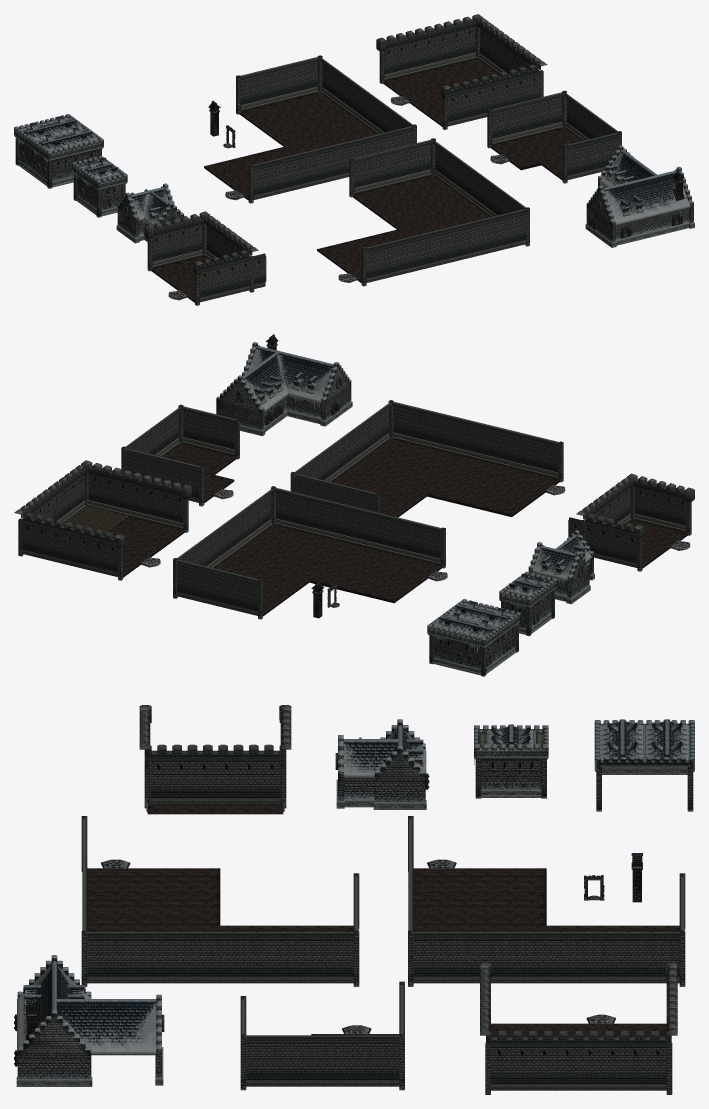
File: EnvMdrMD_Snow_B_Jail_Building_Entrance_A.FBX
3 views of the same model, one above another, from view 1: azimuth 30°, elevation 25°; view 2: azimuth 150°, elevation 25°; view 3: azimuth 270°, elevation 25° (orthographic). The views are drawn at different scales.
Parts seen in each view (by area): view 1: EnvMdrMD_Snow_B_Jail_Building_Indoor_Library_A, EnvMdrMD_Snow_B_Jail_Building_Indoor_Library_A_Guild, EnvMdrMD_Snow_B_Jail_Building_Indoor_Dining_A, EnvMdrMD_Snow_B_Jail_Building_Indoor_StockRoom_A, EnvMdrMD_Snow_B_Jail_Building_Indoor_Station_A, EnvMdrMD_Snow_B_Jail_Building_Outdoor_Library_A, EnvMdrMD_Snow_B_Jail_Building_Outdoor_Dining_A, EnvMdrMD_Snow_B_Jail_Building_Outdoor_Station_A, EnvMdrMD_Snow_B_Jail_Building_Outdoor_StockRoom_A; view 2: EnvMdrMD_Snow_B_Jail_Building_Indoor_Library_A_Guild, EnvMdrMD_Snow_B_Jail_Building_Indoor_Library_A, EnvMdrMD_Snow_B_Jail_Building_Indoor_Dining_A, EnvMdrMD_Snow_B_Jail_Building_Outdoor_Library_A, EnvMdrMD_Snow_B_Jail_Building_Indoor_Station_A, EnvMdrMD_Snow_B_Jail_Building_Indoor_StockRoom_A, EnvMdrMD_Snow_B_Jail_Building_Outdoor_Dining_A, EnvMdrMD_Snow_B_Jail_Building_Outdoor_StockRoom_A, EnvMdrMD_Snow_B_Jail_Building_Outdoor_Station_A; view 3: EnvMdrMD_Snow_B_Jail_Building_Indoor_Library_A, EnvMdrMD_Snow_B_Jail_Building_Indoor_Library_A_Guild, EnvMdrMD_Snow_B_Jail_Building_Indoor_Dining_A, EnvMdrMD_Snow_B_Jail_Building_Outdoor_Library_A, EnvMdrMD_Snow_B_Jail_Building_Indoor_Station_A, EnvMdrMD_Snow_B_Jail_Building_Indoor_StockRoom_A, EnvMdrMD_Snow_B_Jail_Building_Outdoor_StockRoom_A, EnvMdrMD_Snow_B_Jail_Building_Outdoor_Dining_A, EnvMdrMD_Snow_B_Jail_Building_Outdoor_Station_A.
Part boxes in pixels (bbox=[...]): EnvMdrMD_Snow_B_Jail_Building_Indoor_Library_A: bbox=[317, 138, 529, 286]; EnvMdrMD_Snow_B_Jail_Building_Indoor_Library_A_Guild: bbox=[204, 55, 416, 203]; EnvMdrMD_Snow_B_Jail_Building_Indoor_Dining_A: bbox=[376, 14, 547, 129]; EnvMdrMD_Snow_B_Jail_Building_Indoor_StockRoom_A: bbox=[487, 90, 621, 183]; EnvMdrMD_Snow_B_Jail_Building_Indoor_Station_A: bbox=[144, 211, 266, 305]; EnvMdrMD_Snow_B_Jail_Building_Outdoor_Library_A: bbox=[585, 145, 694, 247]; EnvMdrMD_Snow_B_Jail_Building_Outdoor_Dining_A: bbox=[14, 114, 103, 188]; EnvMdrMD_Snow_B_Jail_Building_Outdoor_Station_A: bbox=[72, 155, 127, 217]; EnvMdrMD_Snow_B_Jail_Building_Outdoor_StockRoom_A: bbox=[116, 183, 185, 243]; EnvMdrMD_Snow_B_Jail_Building_Indoor_Library_A_Guild: bbox=[173, 486, 447, 619]; EnvMdrMD_Snow_B_Jail_Building_Indoor_Library_A: bbox=[290, 400, 565, 517]; EnvMdrMD_Snow_B_Jail_Building_Indoor_Dining_A: bbox=[14, 460, 191, 580]; EnvMdrMD_Snow_B_Jail_Building_Outdoor_Library_A: bbox=[216, 334, 352, 436]; EnvMdrMD_Snow_B_Jail_Building_Indoor_Station_A: bbox=[568, 473, 694, 571]; EnvMdrMD_Snow_B_Jail_Building_Indoor_StockRoom_A: bbox=[121, 404, 239, 506]; EnvMdrMD_Snow_B_Jail_Building_Outdoor_Dining_A: bbox=[427, 599, 520, 676]; EnvMdrMD_Snow_B_Jail_Building_Outdoor_StockRoom_A: bbox=[528, 530, 594, 604]; EnvMdrMD_Snow_B_Jail_Building_Outdoor_Station_A: bbox=[499, 571, 556, 636]; EnvMdrMD_Snow_B_Jail_Building_Indoor_Library_A: bbox=[81, 816, 359, 986]; EnvMdrMD_Snow_B_Jail_Building_Indoor_Library_A_Guild: bbox=[408, 816, 685, 986]; EnvMdrMD_Snow_B_Jail_Building_Indoor_Dining_A: bbox=[480, 962, 677, 1094]; EnvMdrMD_Snow_B_Jail_Building_Outdoor_Library_A: bbox=[14, 955, 164, 1086]; EnvMdrMD_Snow_B_Jail_Building_Indoor_Station_A: bbox=[139, 705, 291, 814]; EnvMdrMD_Snow_B_Jail_Building_Indoor_StockRoom_A: bbox=[240, 981, 404, 1090]; EnvMdrMD_Snow_B_Jail_Building_Outdoor_StockRoom_A: bbox=[335, 719, 429, 809]; EnvMdrMD_Snow_B_Jail_Building_Outdoor_Dining_A: bbox=[594, 719, 694, 811]; EnvMdrMD_Snow_B_Jail_Building_Outdoor_Station_A: bbox=[474, 724, 548, 798].
Bounding box in the file's own units: 7041 × 765 × 6013.
1 material, 1 textured.
